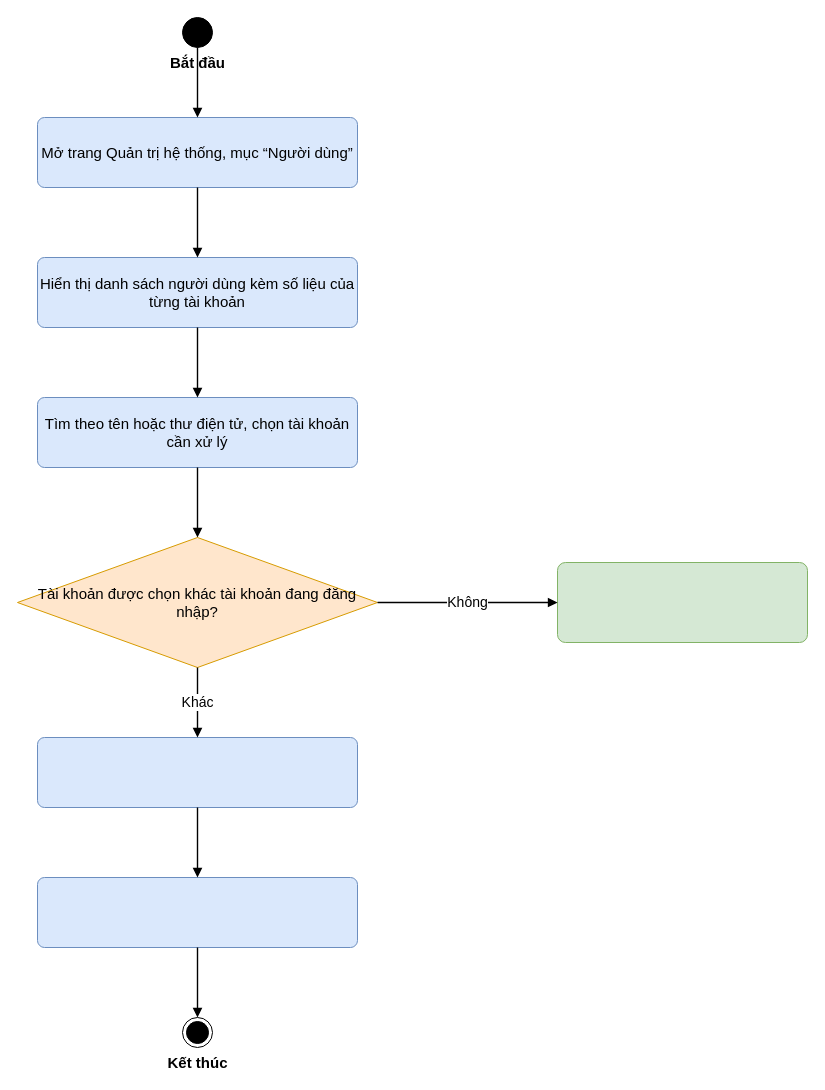
This 825x1090 diagram has some shape labels left out. Here are the shapes that lost their labels. From the top down, the centre of each, then its label:
At [682,602]: "Báo lỗi: không thể tự khoá tài khoản của mình".
At [197,772]: "Đổi trạng thái tài khoản sang Bị khoá hoặc Hoạt động".
At [197,912]: "Cập nhật lại danh sách người dùng".
